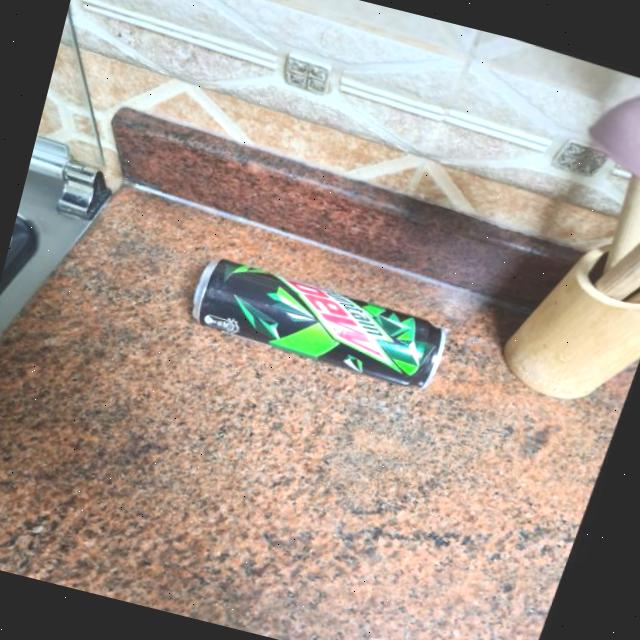trash: (174, 245, 454, 398)
